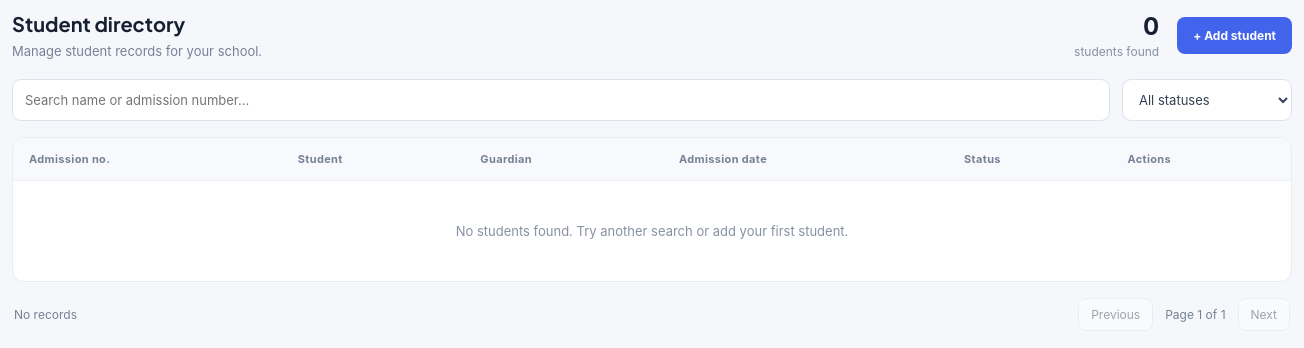
it: StudentDirectory › filters students by status
Select "Inactive" in the dropdown named "Filter by status": (1207, 100) [1122,79,1292,121]
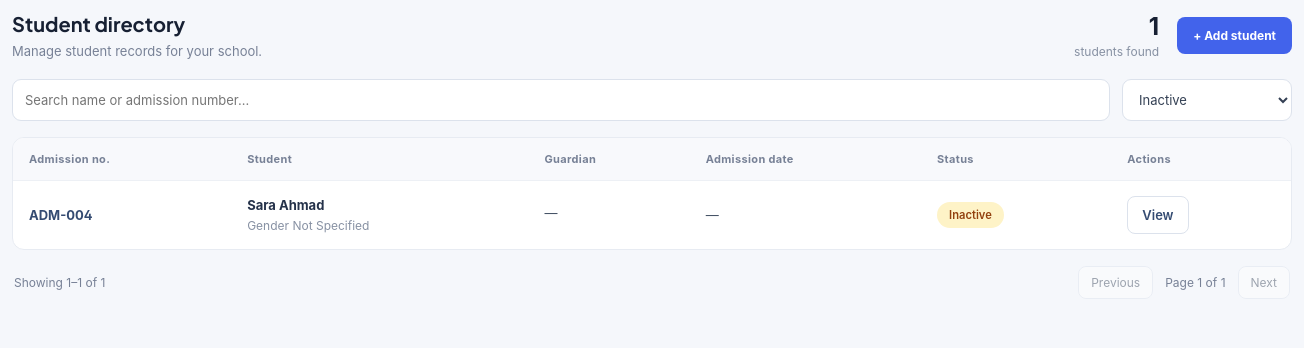
Check: the text "Sara Ahmad" is shown, box [247,197,324,213]
Check: the text "inactive" is shown, box [937,202,1004,228]
